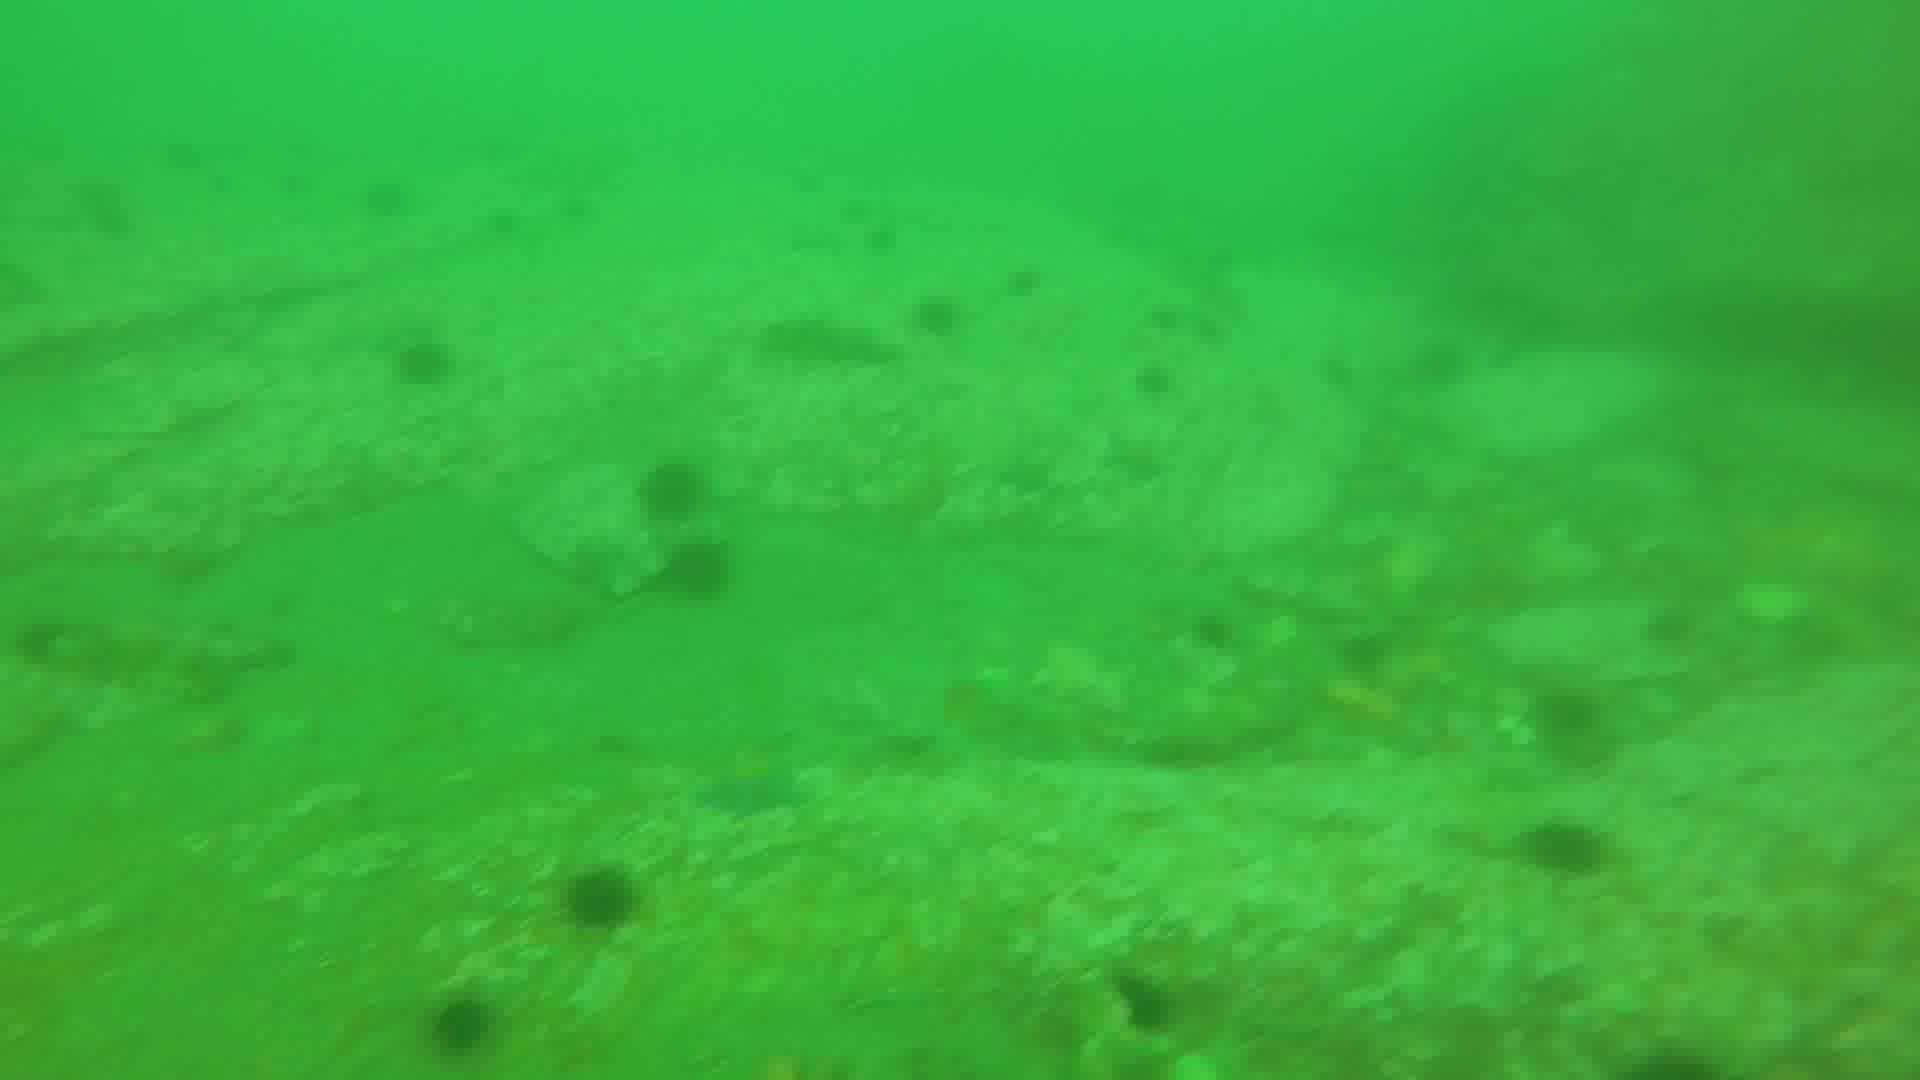echinus: (566, 866, 645, 936), (433, 1000, 506, 1062), (1528, 823, 1600, 884), (665, 549, 735, 603), (649, 462, 703, 525), (392, 340, 454, 388), (918, 297, 977, 345), (369, 174, 433, 214), (1134, 357, 1182, 405), (492, 204, 531, 240), (1010, 258, 1044, 295)
starfish: (703, 766, 820, 820)
